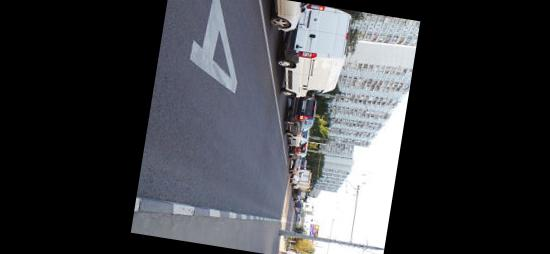bus_line: (136, 0, 295, 223)
